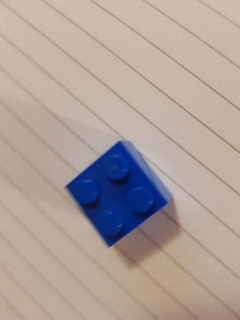2x2 blue: (59, 137, 175, 251)
